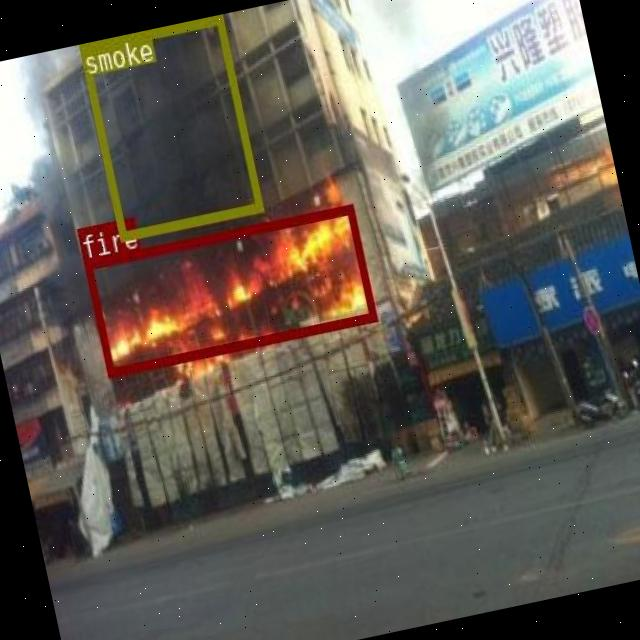fire: (82, 202, 376, 376)
smoke: (78, 14, 260, 240)
